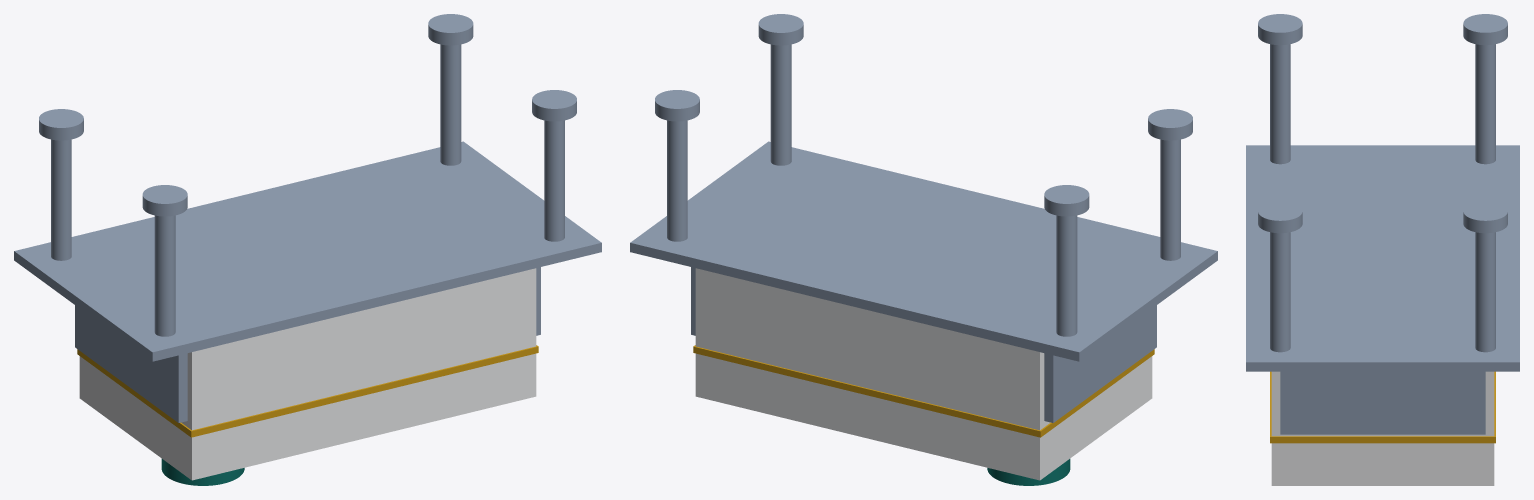
3 renders of one model, left to right at view 1: azimuth 30°, elevation 25°; view 2: azimuth 150°, elevation 25°; view 3: azimuth 270°, elevation 25°, orthographic.
Parts seen in each view (by area): view 1: Stainless bracket and tamper bolts, Enclosure, IP67 ABS or PC, Gaskets and vent, Ultrasonic transducer, sealed; view 2: Stainless bracket and tamper bolts, Enclosure, IP67 ABS or PC, Gaskets and vent, Ultrasonic transducer, sealed; view 3: Stainless bracket and tamper bolts, Enclosure, IP67 ABS or PC, Gaskets and vent.
Part boxes in pixels (x1,y1,x2,y2): Stainless bracket and tamper bolts: (14, 14, 601, 422); Enclosure, IP67 ABS or PC: (79, 268, 536, 480); Gaskets and vent: (77, 345, 538, 437); Ultrasonic transducer, sealed: (161, 459, 244, 485); Stainless bracket and tamper bolts: (630, 14, 1217, 422); Enclosure, IP67 ABS or PC: (695, 268, 1152, 480); Gaskets and vent: (693, 345, 1154, 437); Ultrasonic transducer, sealed: (987, 459, 1070, 485); Stainless bracket and tamper bolts: (1246, 14, 1519, 434); Enclosure, IP67 ABS or PC: (1271, 371, 1494, 485); Gaskets and vent: (1270, 371, 1495, 443).
Size of the model in its own units: 0.15 by 0.1065 by 0.08.
